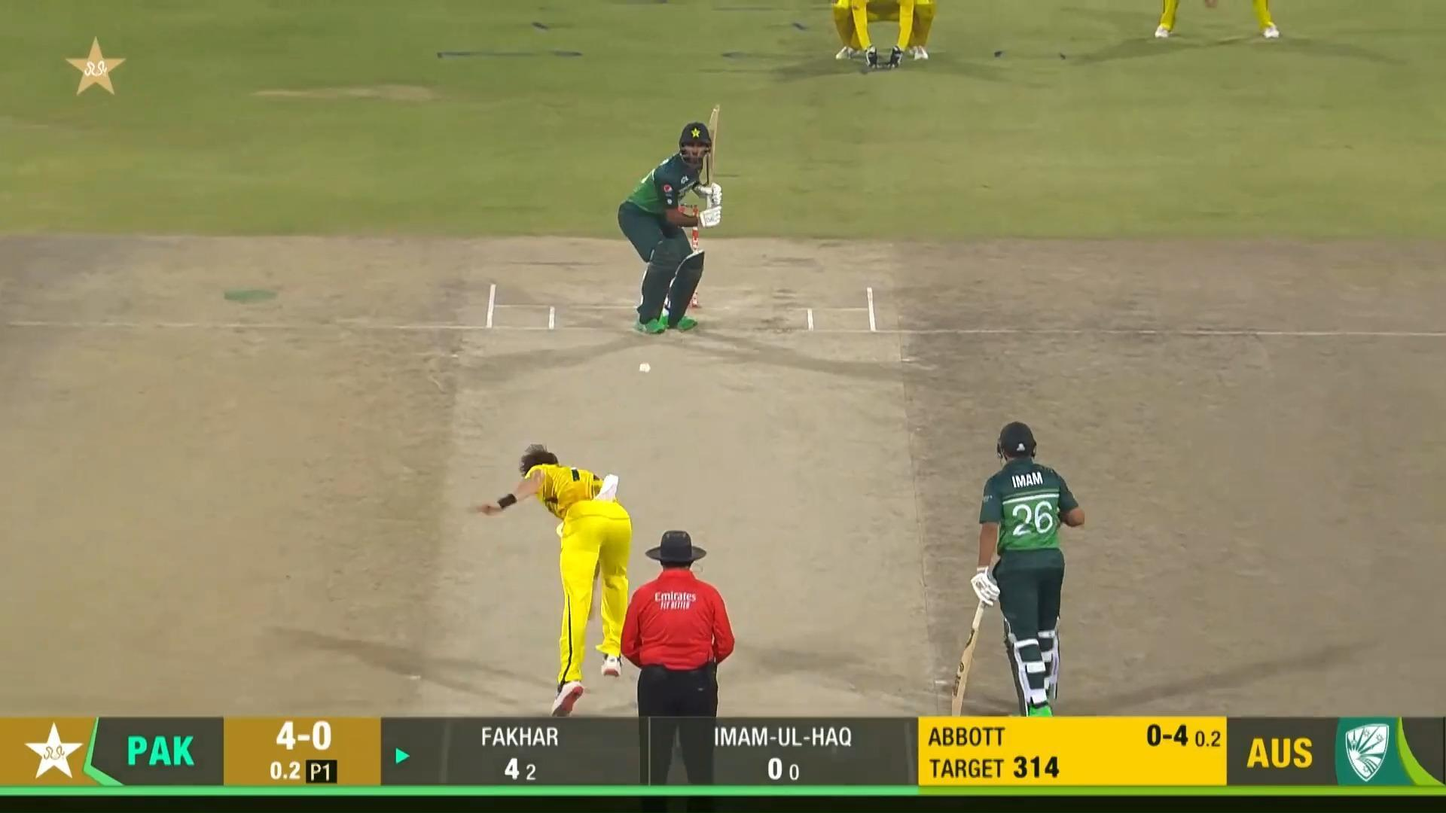BM 1: (618, 104, 722, 335)
BO: (478, 442, 633, 715)
